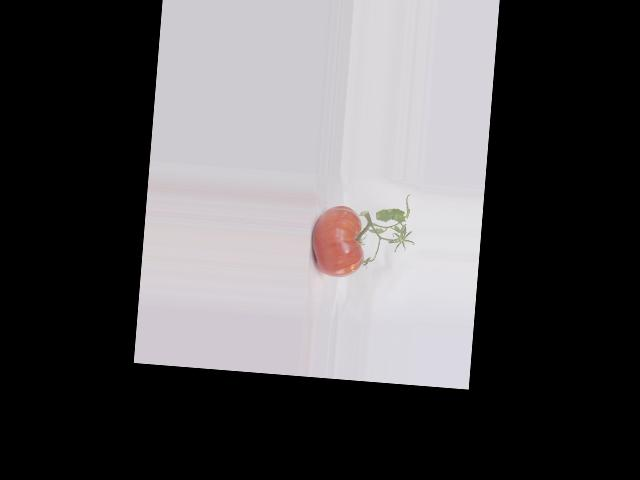tomato: (308, 203, 367, 279)
